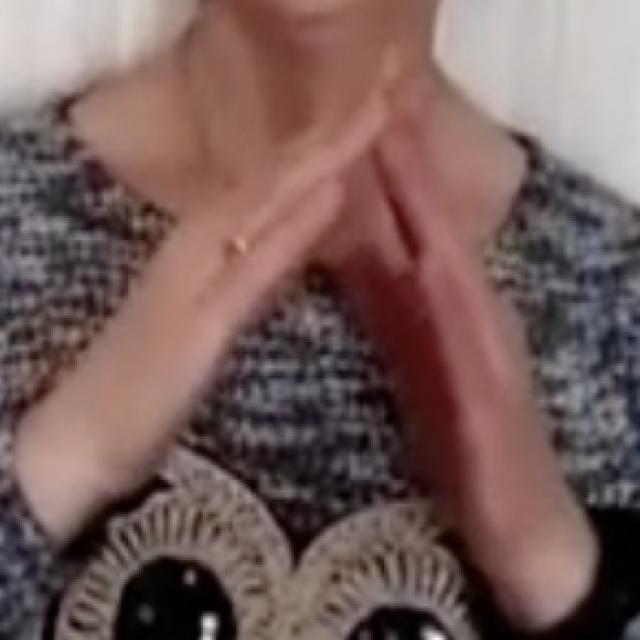casa: (22, 54, 603, 579)
